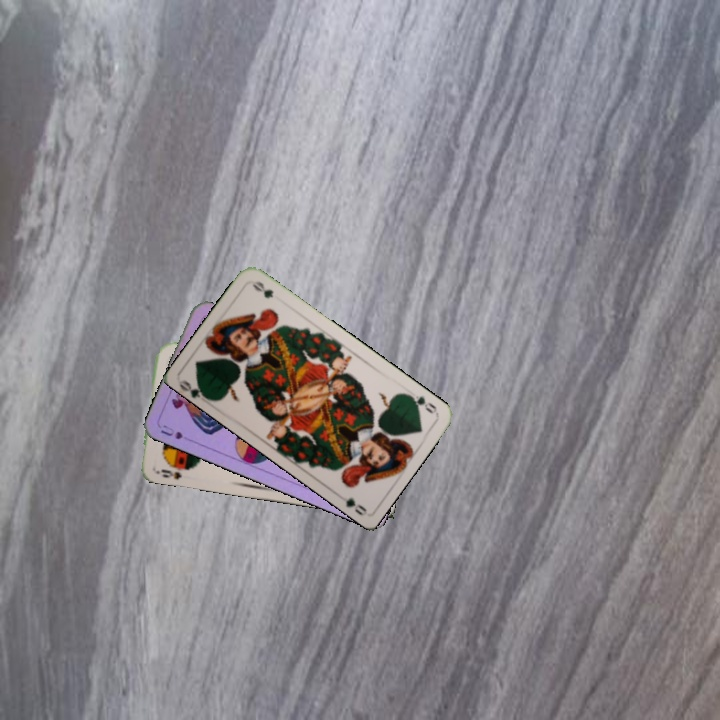GO: (176, 376, 214, 403), (402, 390, 440, 416)
SO: (152, 460, 194, 482)
SU: (156, 420, 196, 445)
